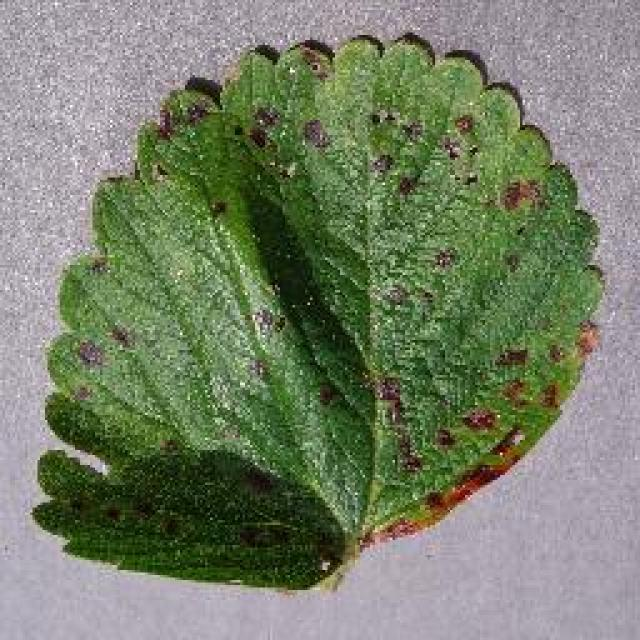Strawberry___Leaf_scorch: (131, 118, 594, 526)
